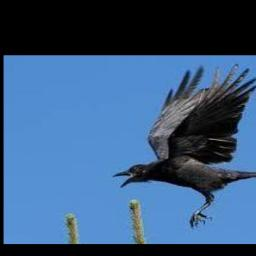Crow: (112, 66, 256, 228)
